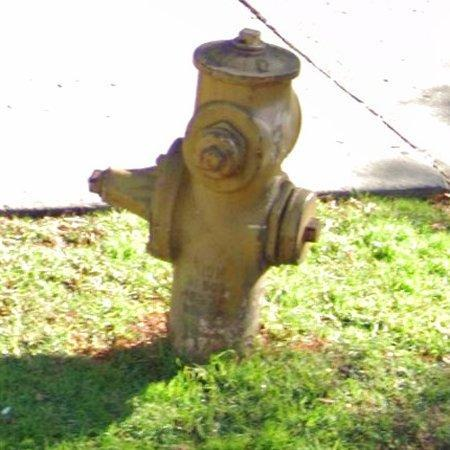a fire hydrant: (88, 29, 320, 360)
